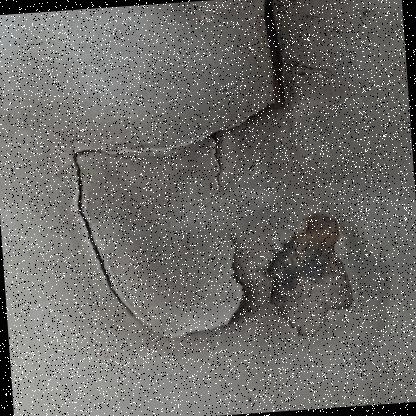Crack: (7, 0, 405, 375)
